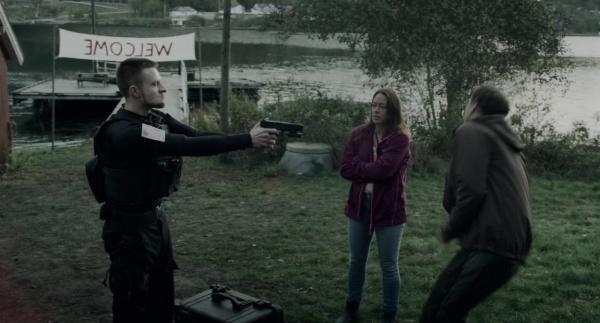Gun: (260, 119, 303, 139)
